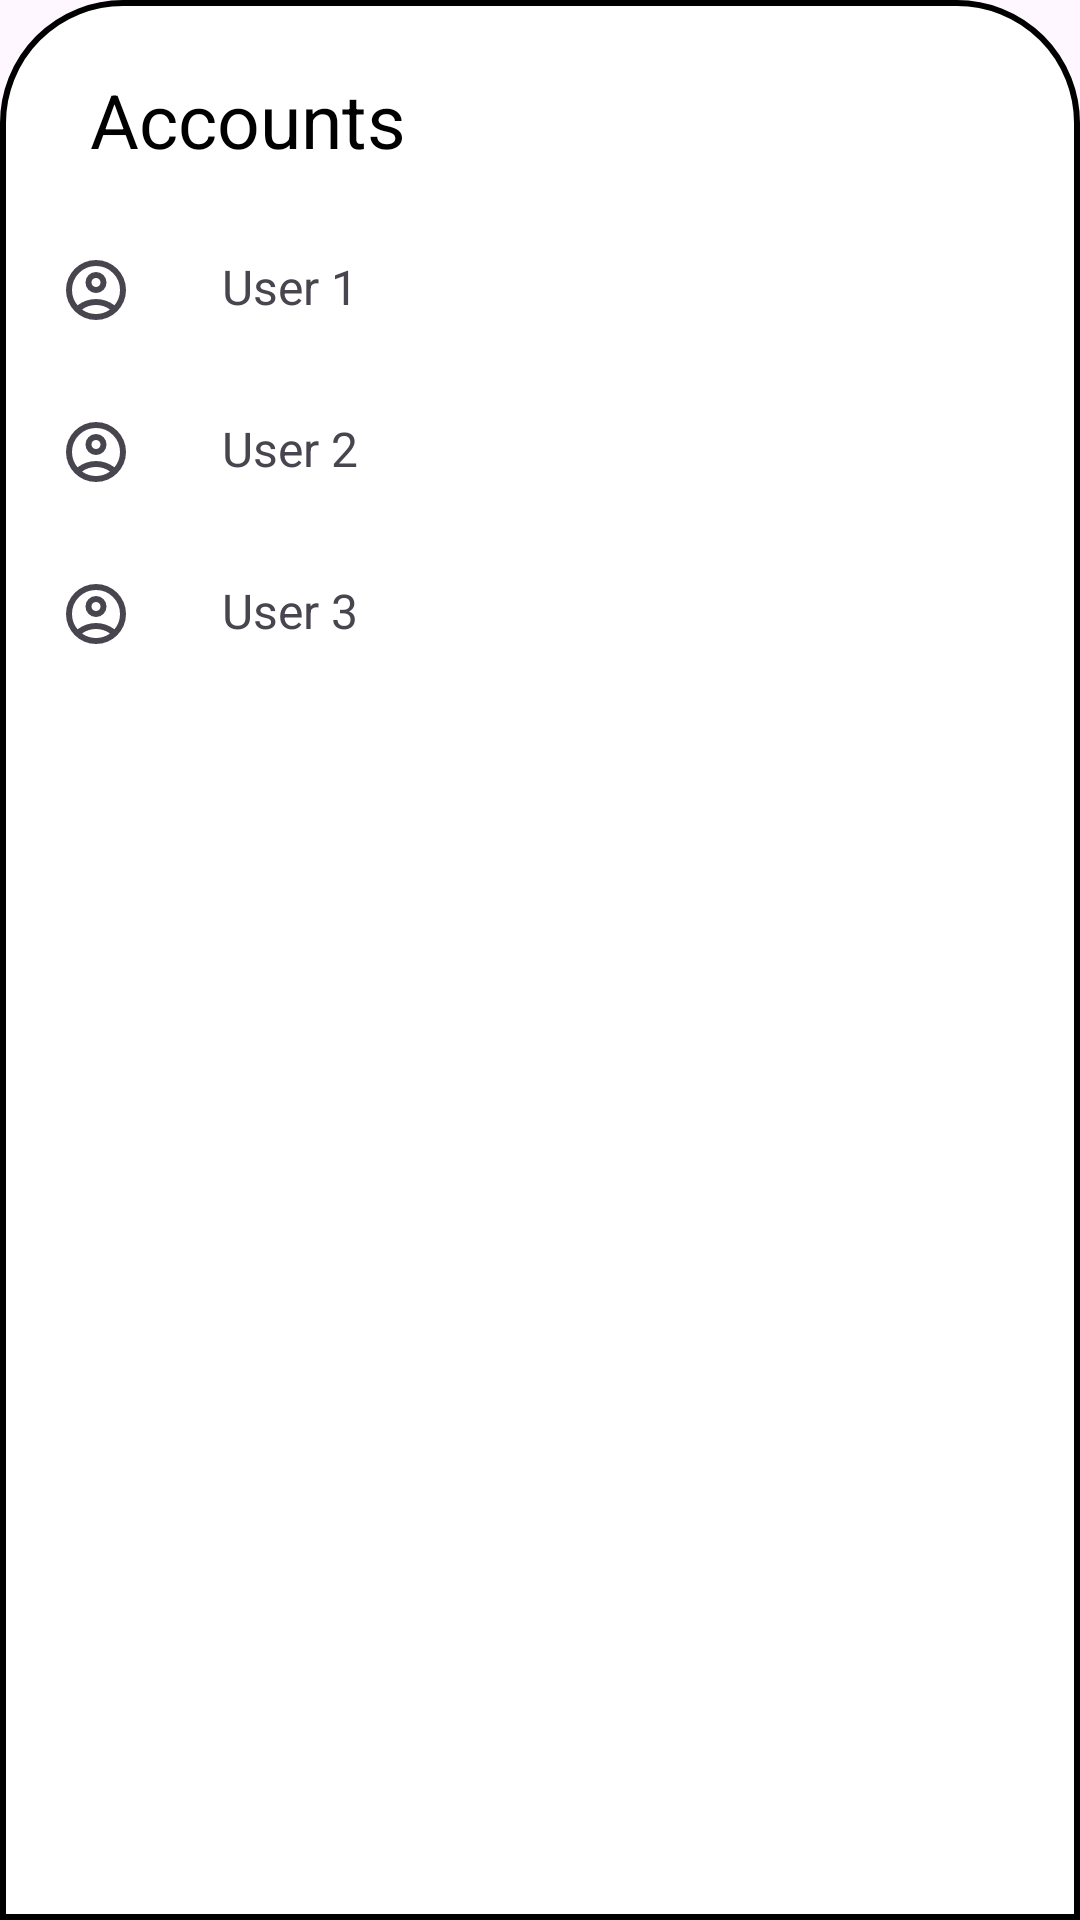

Where icons sit on this 1080×1920 app screen, as (x1, y1, x2, y2):
account circle: (66, 260, 126, 320), (66, 422, 126, 482), (66, 584, 126, 644)
